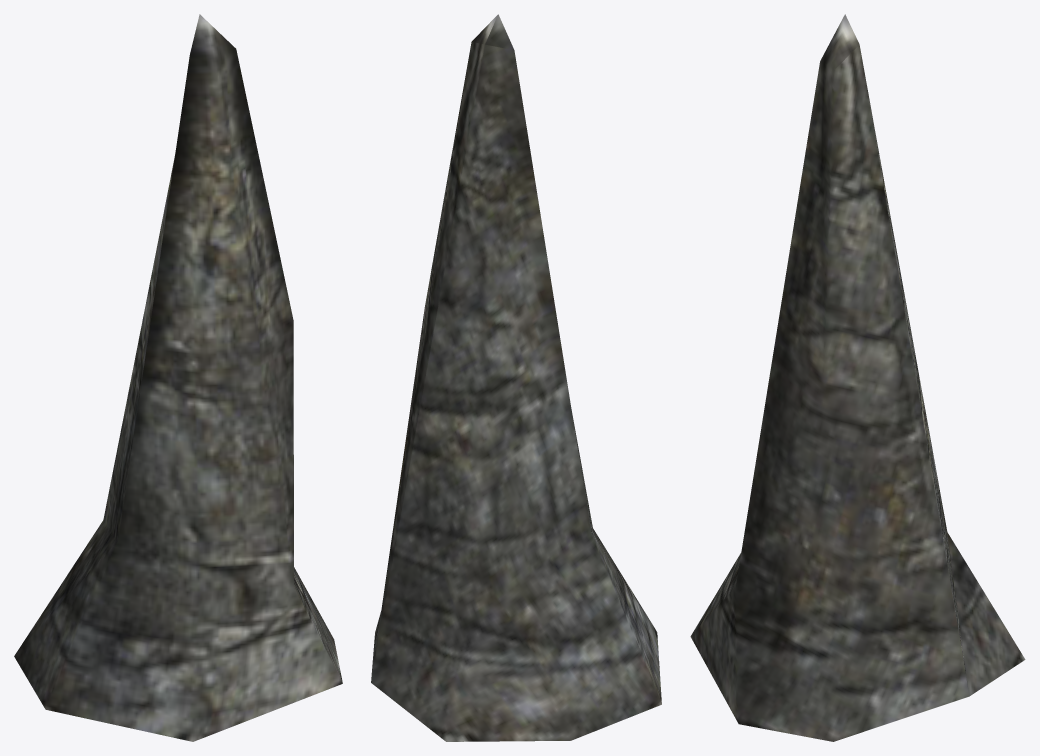
File: Stal1.fbx
3 renders of one model, left to right at view 1: azimuth 30°, elevation 25°; view 2: azimuth 150°, elevation 25°; view 3: azimuth 270°, elevation 25°, orthographic.
Visible parts, largest first — view 1: Stal1; view 2: Stal1; view 3: Stal1.
Boxes of the visible parts, x1=… form: Stal1: x1=14, y1=14, x2=342, y2=741; Stal1: x1=371, y1=14, x2=661, y2=741; Stal1: x1=690, y1=14, x2=1025, y2=741.
Bounding box in the file's own units: 3.18 × 6.9 × 3.15.
